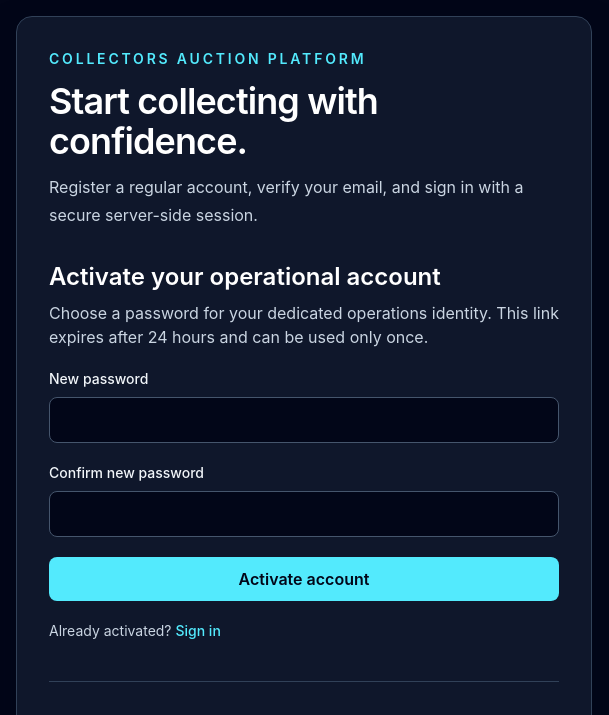
Test case: App › activates an operational account from its single-use link
Expected: the heading "Activate your operational account" is shown, 49,262 -> 441,291
In the password field labelled "New password": (304, 420) 49,397 -> 559,443, type "a moderator password"
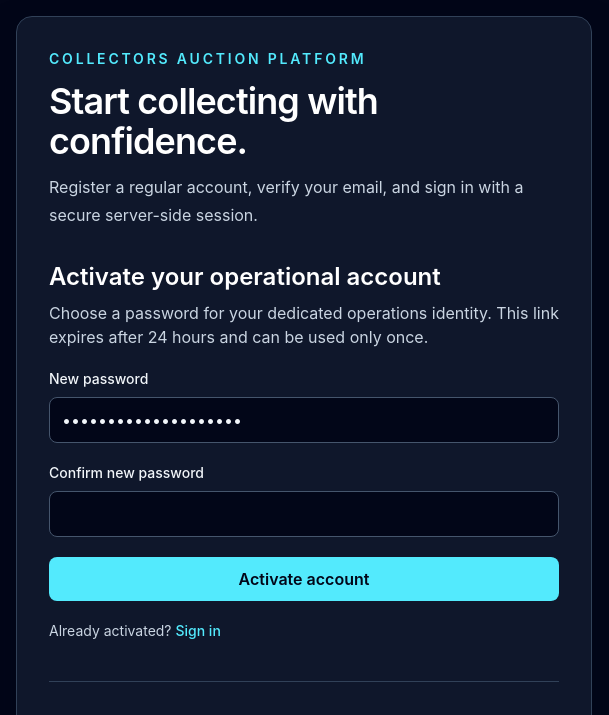
In the password field labelled "Confirm new password": (304, 514) 49,491 -> 559,537, type "a moderator password"
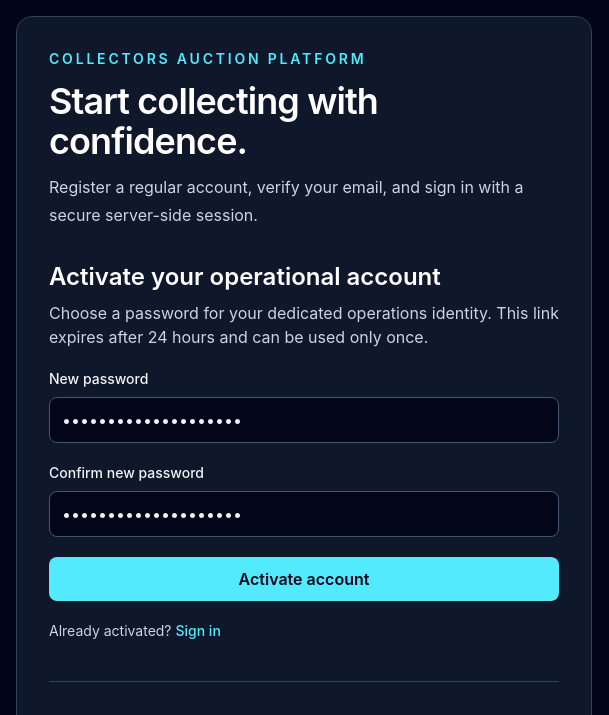
Click the button "Activate account": (304, 579) 49,557 -> 559,601
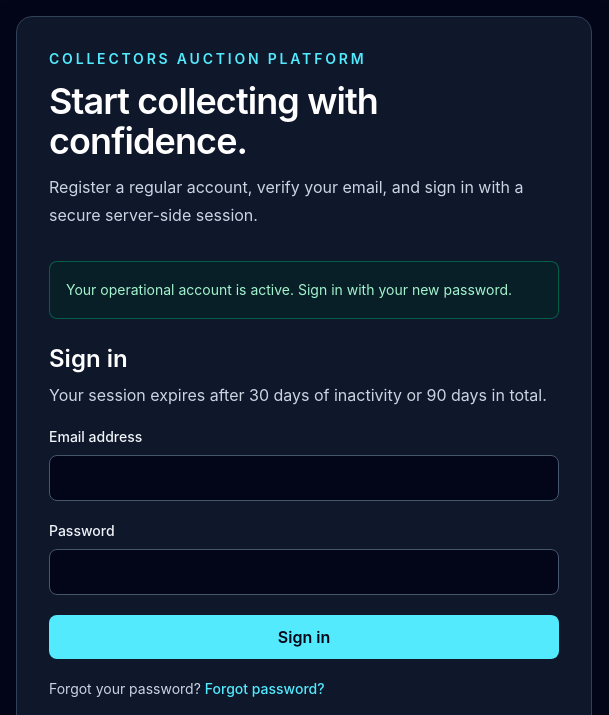
Expected: the heading "Sign in" is shown, 49,344 -> 128,373
